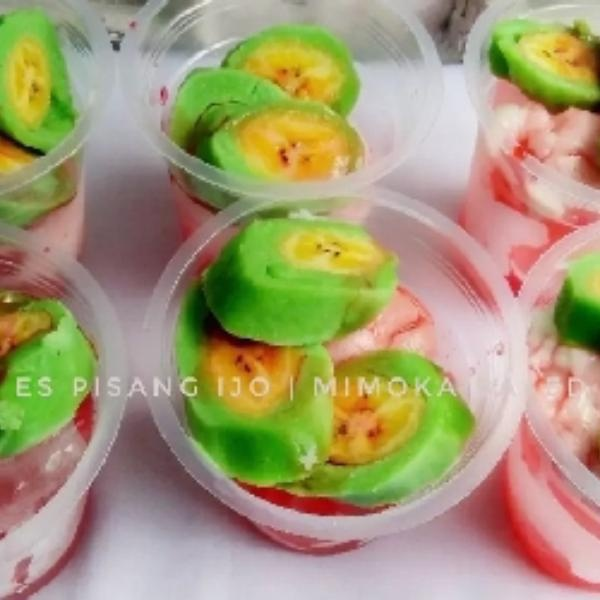pisang_ijo: (211, 187, 441, 366)
